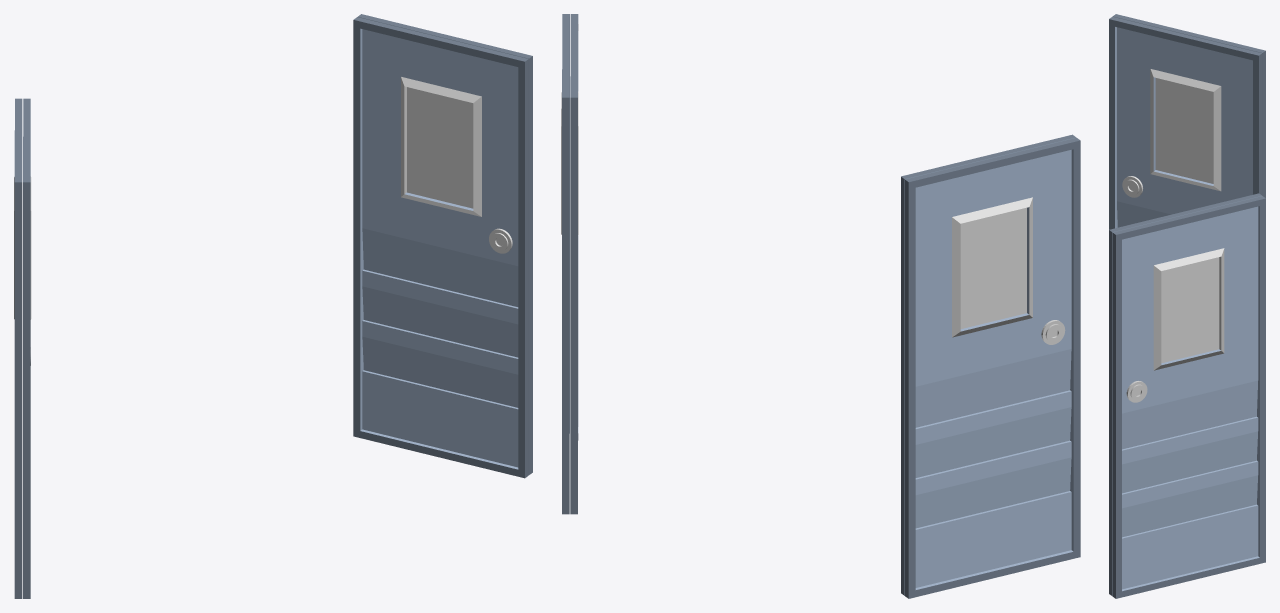
The model's file is dooropen.glb.
3 renders of one model, left to right at view 1: azimuth 30°, elevation 25°; view 2: azimuth 150°, elevation 25°; view 3: azimuth 270°, elevation 25°, orthographic. The views are drawn at different scales.
Parts seen in each view (by area): view 1: Cube, Cube.002, Cube.001, Cube.006; view 2: Cube.008, Cube.006, Cube.007, Cube.002, Cube; view 3: Cube, Cube.008, Cube.002, Cube.001, Cube.007, Cube.006, Circle.002, Circle.006.
Boxes of the visible parts, box(x1,y1,x2,y2) form: Cube: box(358, 17, 528, 474); Cube.002: box(353, 14, 532, 478); Cube.001: box(401, 77, 481, 216); Cube.006: box(14, 98, 30, 598); Cube.008: box(904, 137, 1076, 595); Cube.006: box(901, 134, 1080, 598); Cube.007: box(952, 197, 1032, 337); Cube.002: box(562, 14, 578, 514); Cube: box(569, 17, 578, 433); Cube: box(1112, 196, 1261, 595); Cube.008: box(1113, 16, 1262, 228); Cube.002: box(1109, 193, 1265, 598); Cube.001: box(1153, 248, 1224, 370); Cube.007: box(1150, 69, 1221, 191); Cube.006: box(1109, 14, 1265, 229); Circle.002: box(1126, 381, 1147, 402); Circle.006: box(1122, 176, 1142, 197).
Bounding box in the file's own units: 6.04 × 4.64 × 1.81.
